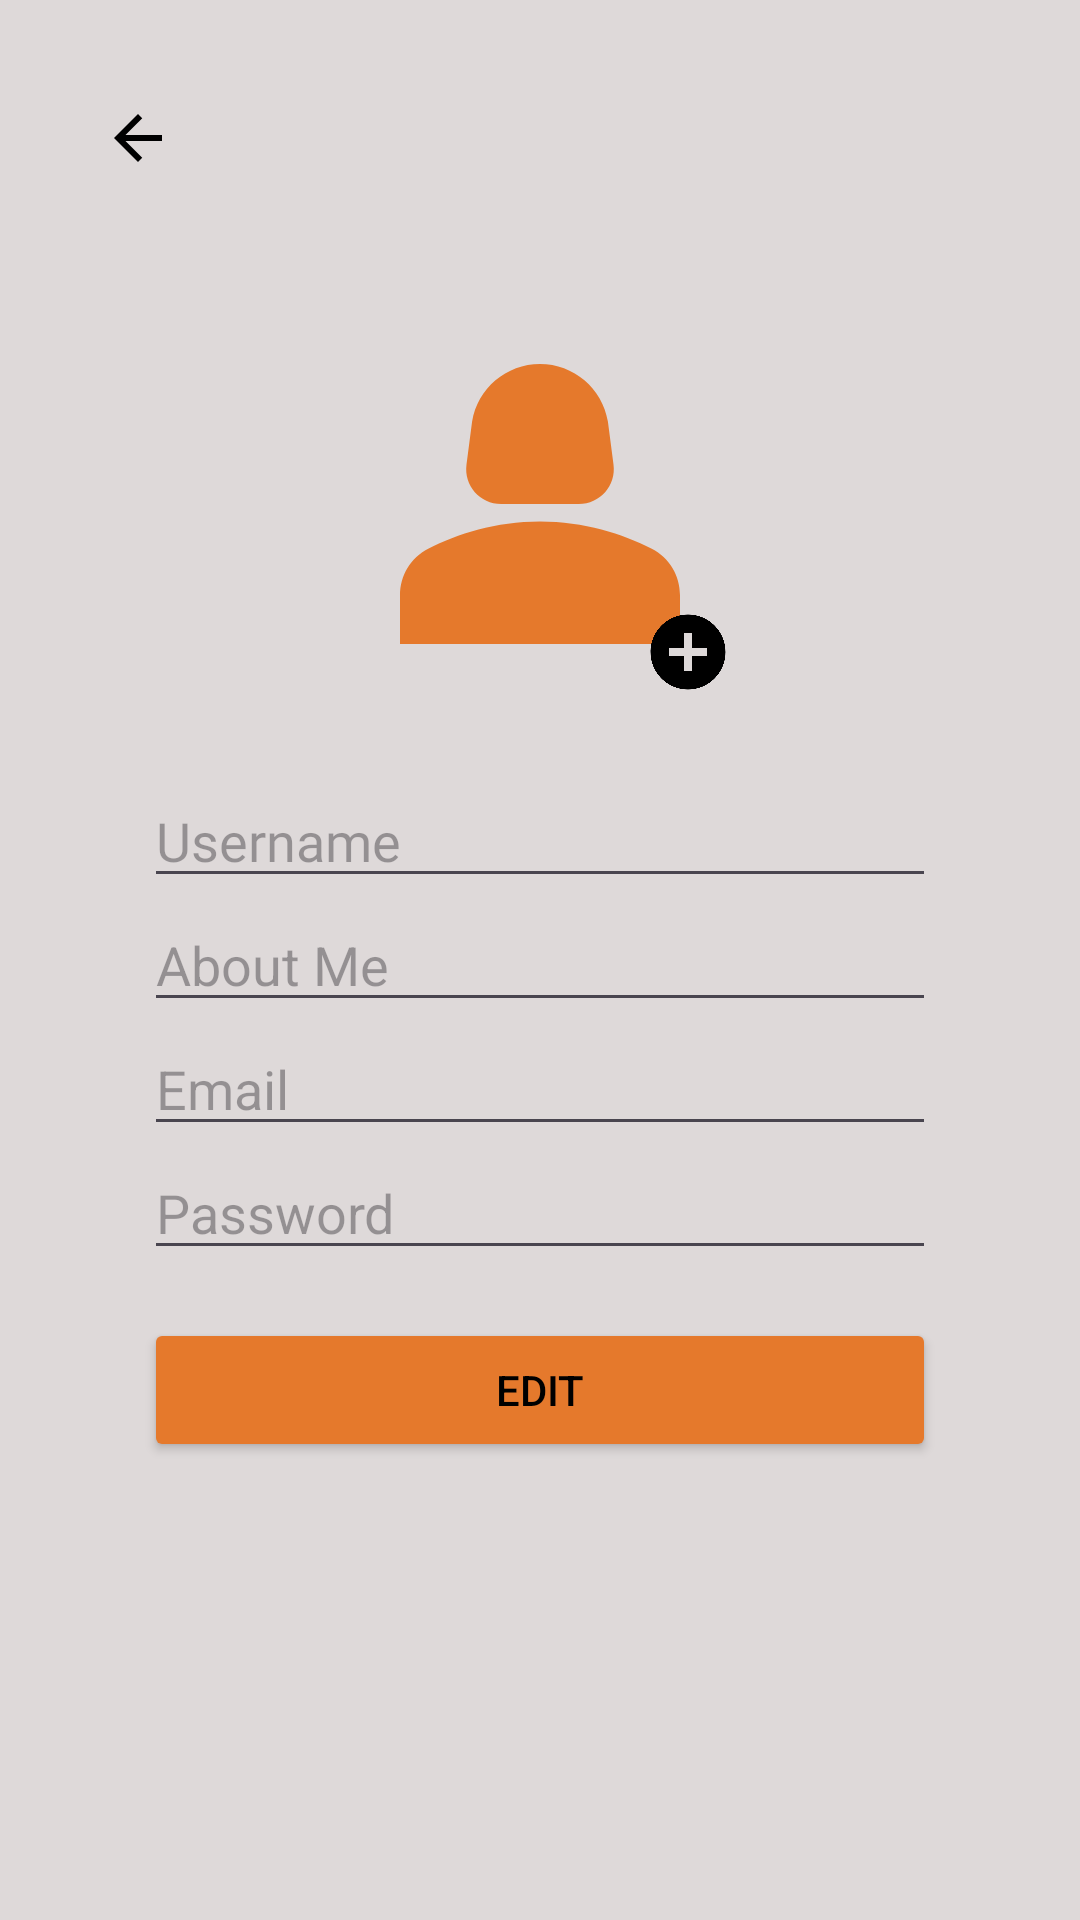

Screen size 1080 x 1920. Icon name, then its center in pixels as (x,y):
arrow back: (138,138)
